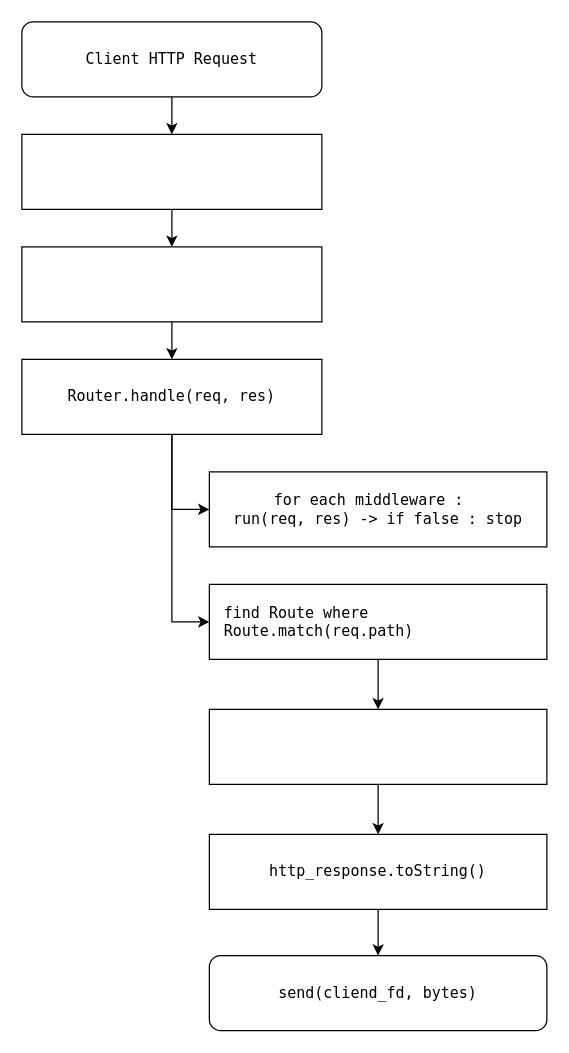
Image size: 569x1053. Some labels were removed from this diagram. The centre of each missing label's shape, as x and y in pixels:
"http_request.parse(raw)" belongs at point (171, 284).
"route_handler(req,res,params)" belongs at point (377, 746).
"Server.accept_loop() -> recv() raw bytes" belongs at point (171, 171).
